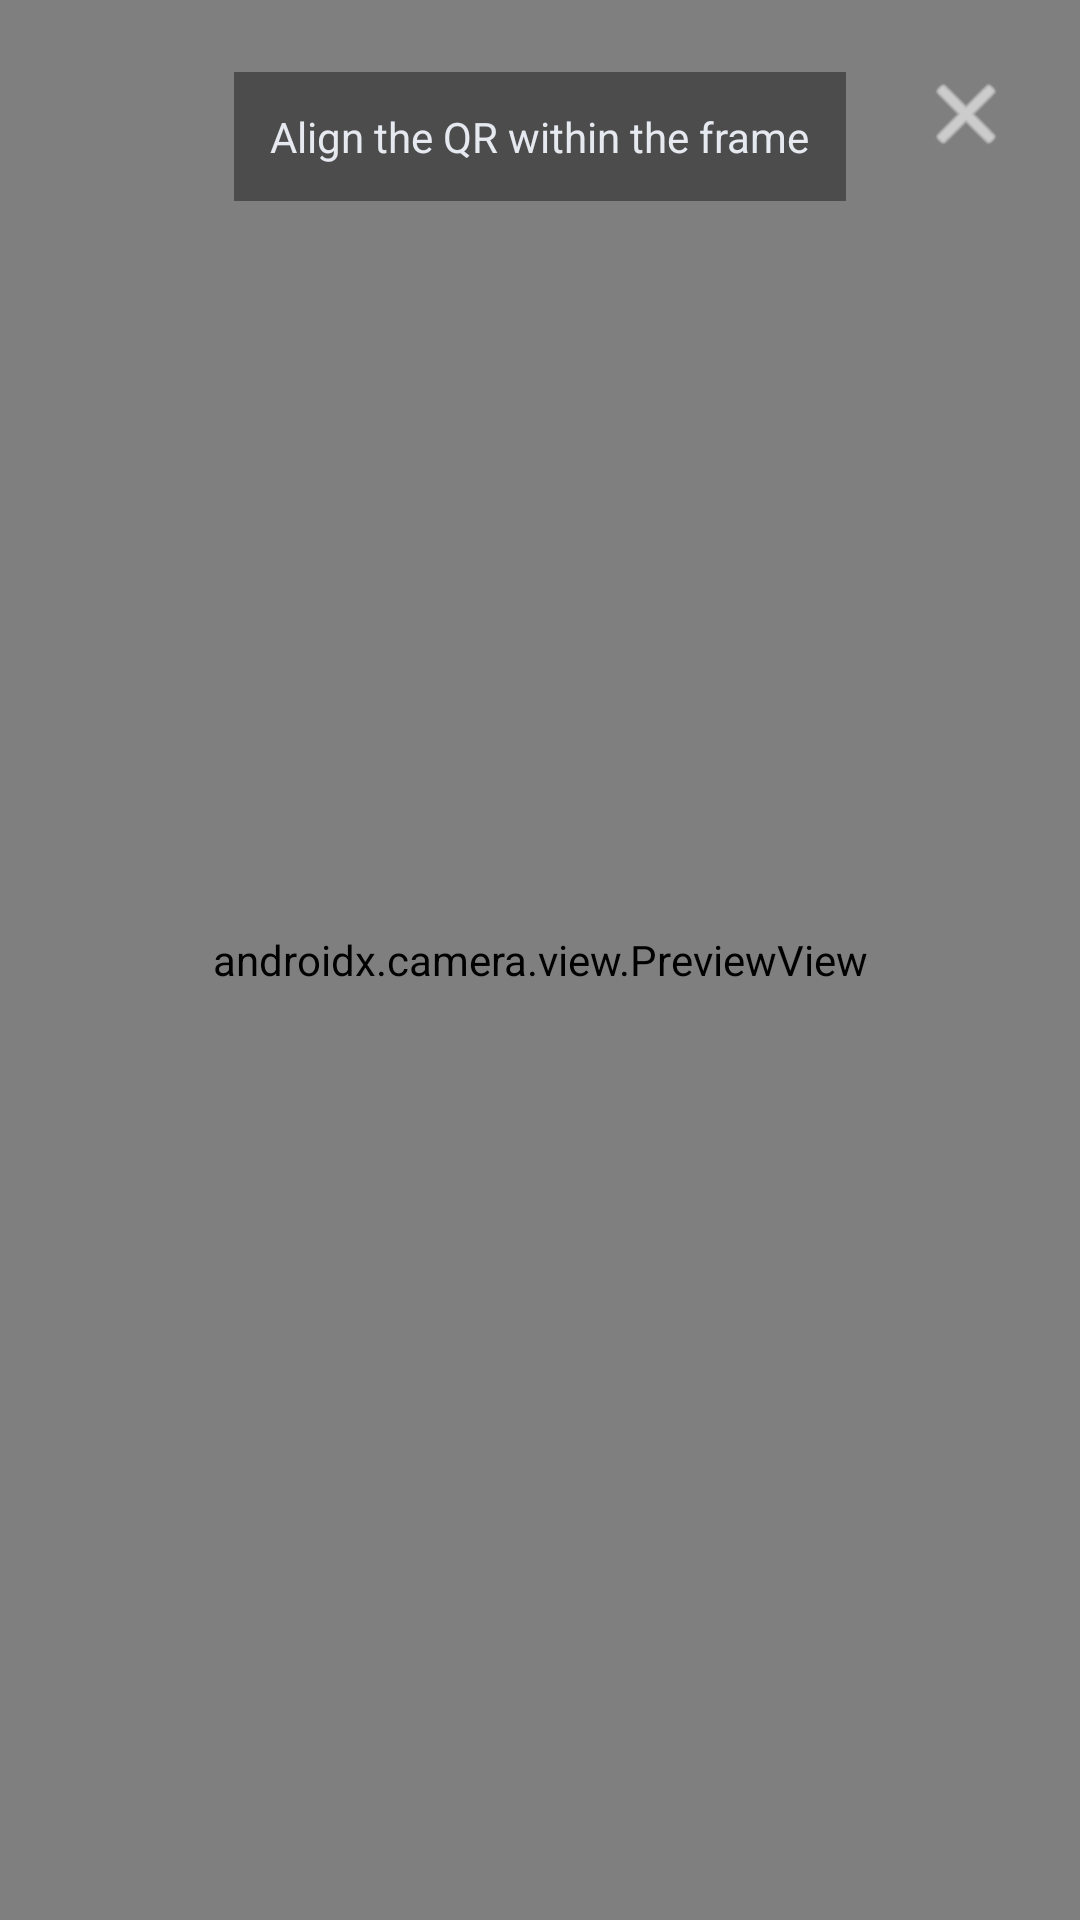

Locate icon controls on the screen. Image size 1080 x 1920, boxes as (x1, y1, x2, y2).
close clear cancel: (936, 84, 996, 144)
